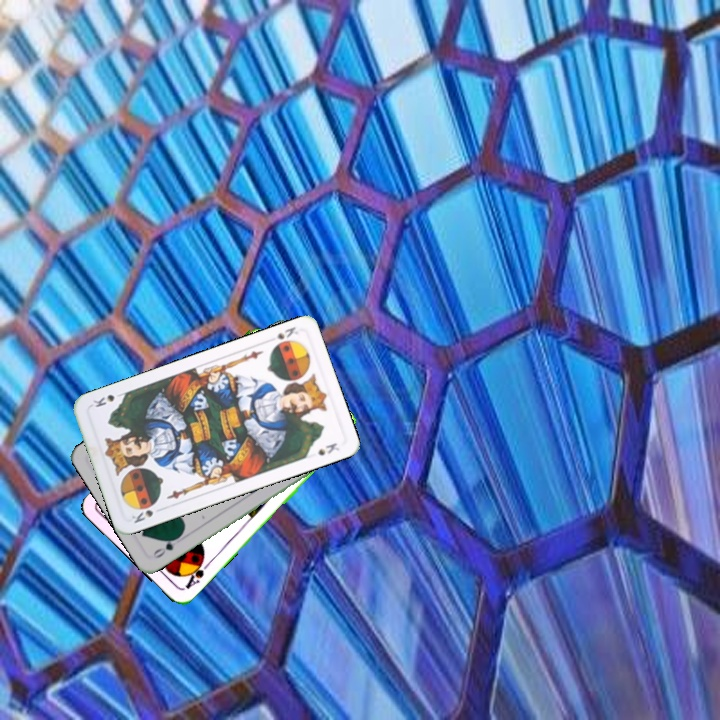GO: (148, 531, 185, 561)
SA: (181, 555, 212, 592)
SK: (127, 504, 166, 526), (273, 322, 300, 342)
